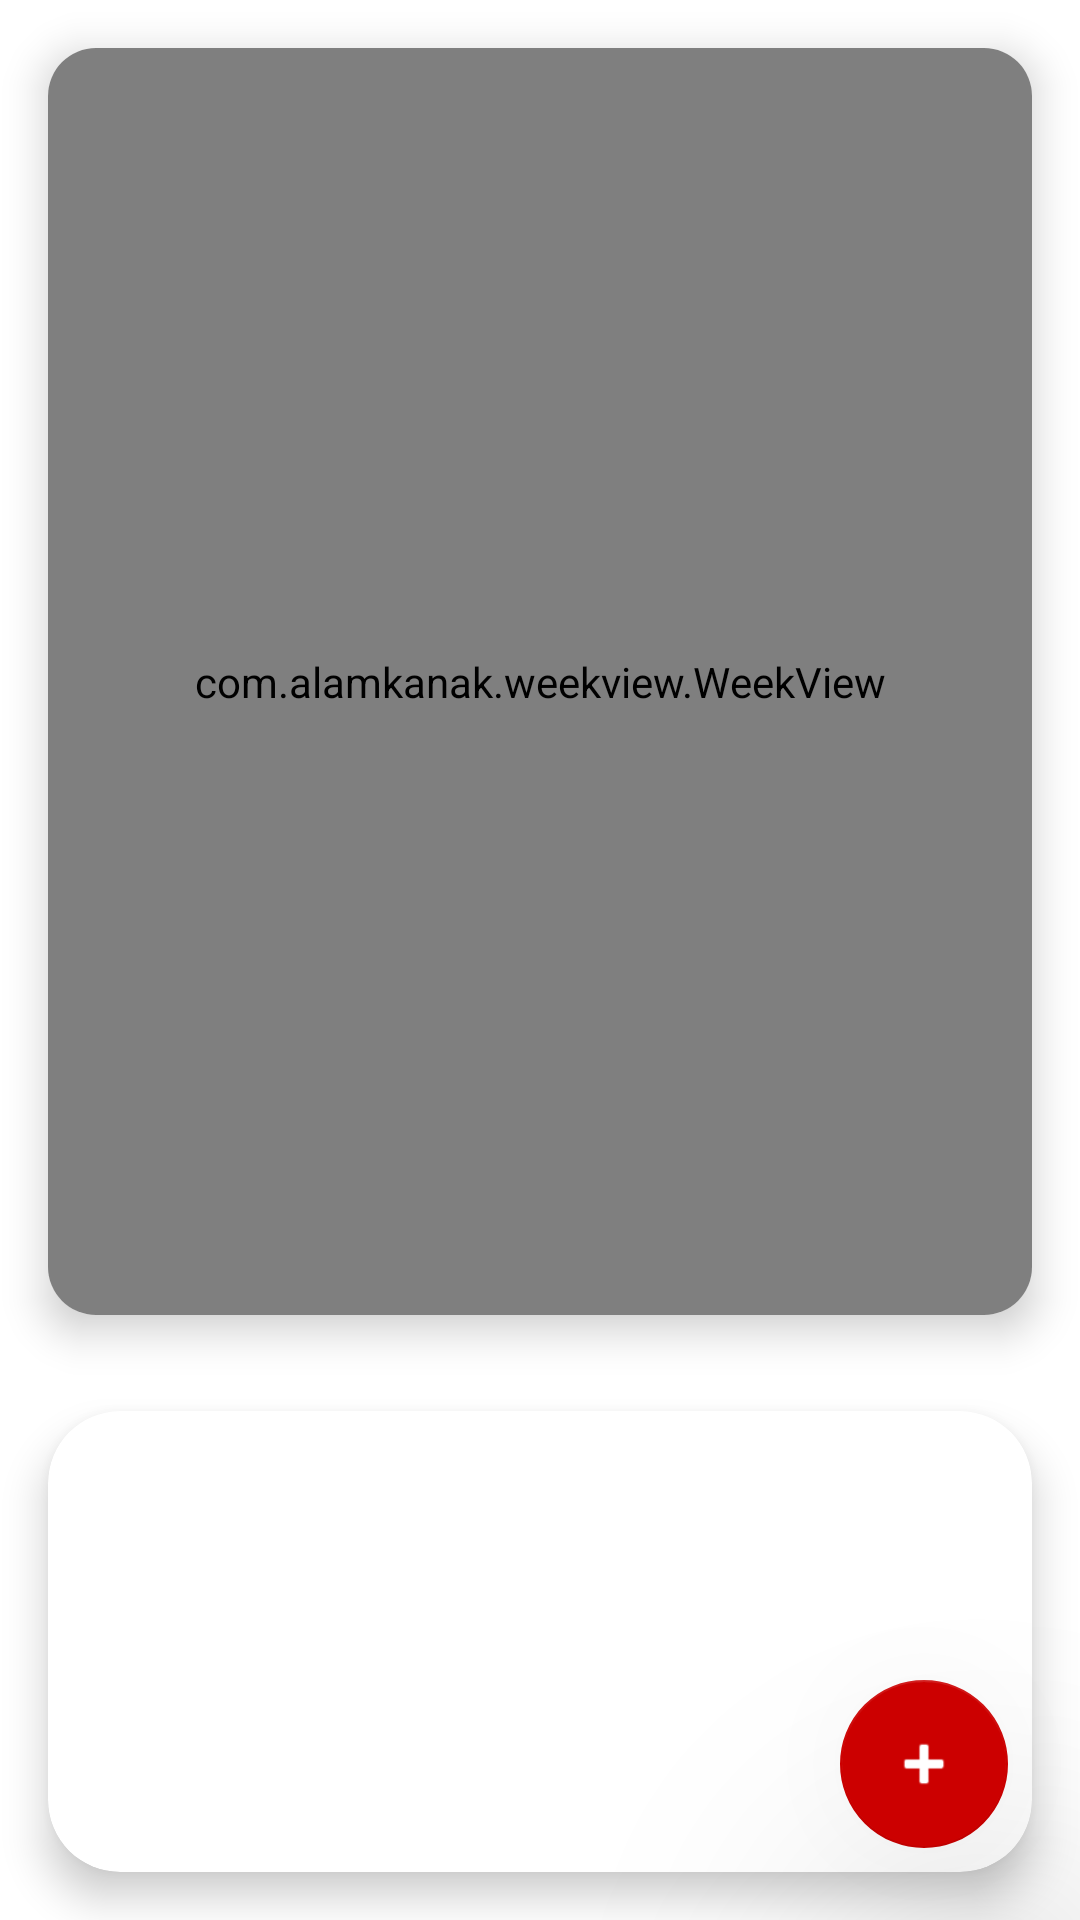

Locate icon controls on the screen. Image size 1080 x 1920, boxes as BBox(x1, y1, x2, y2).
Agregar: BBox(840, 1680, 1008, 1848)
